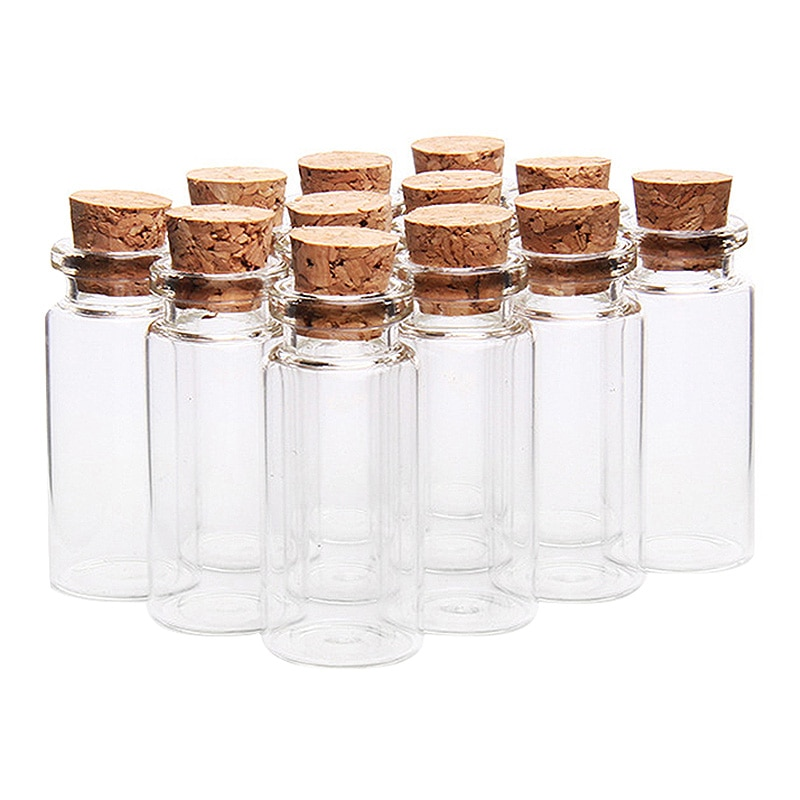glass_bottleww: (622, 90, 795, 732), (241, 195, 441, 719), (27, 148, 196, 657), (142, 148, 294, 711), (398, 162, 547, 709), (508, 172, 661, 673)
